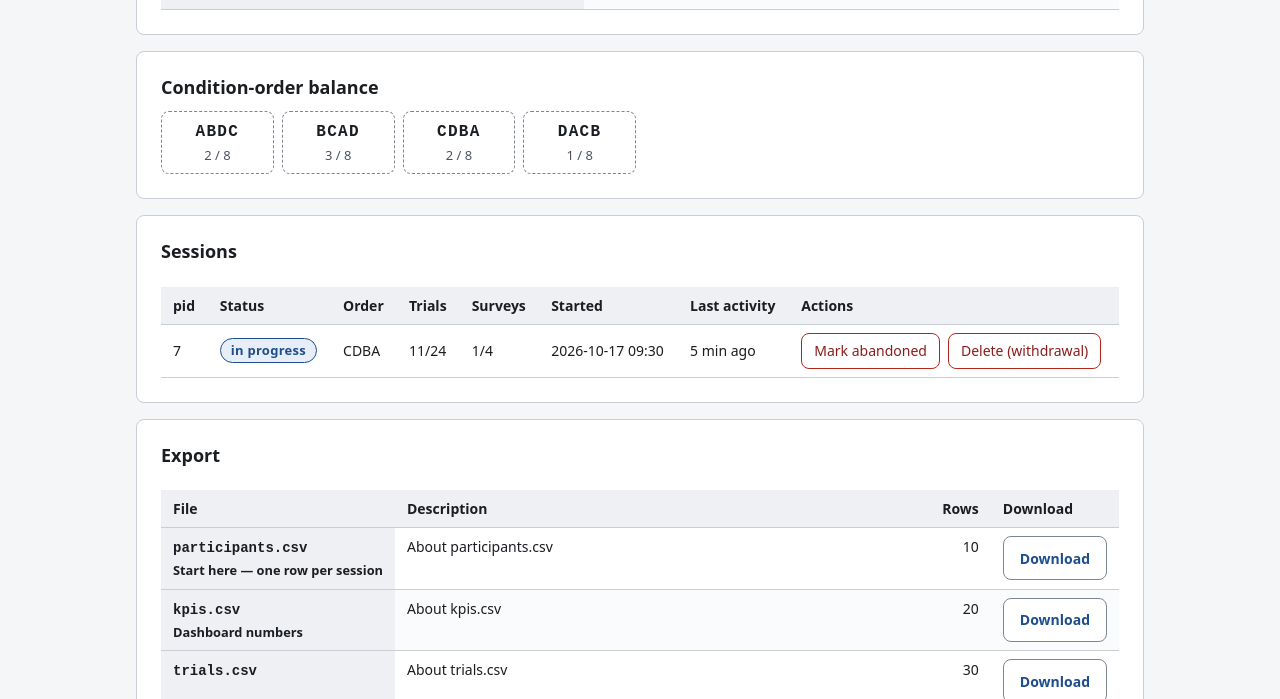
AdminScreen › requires typing the pid before deleting
(page scrolled)
Click the button "Delete (withdrawal)" at (1025, 351), box top-left (948, 333), bottom-right (1101, 369)
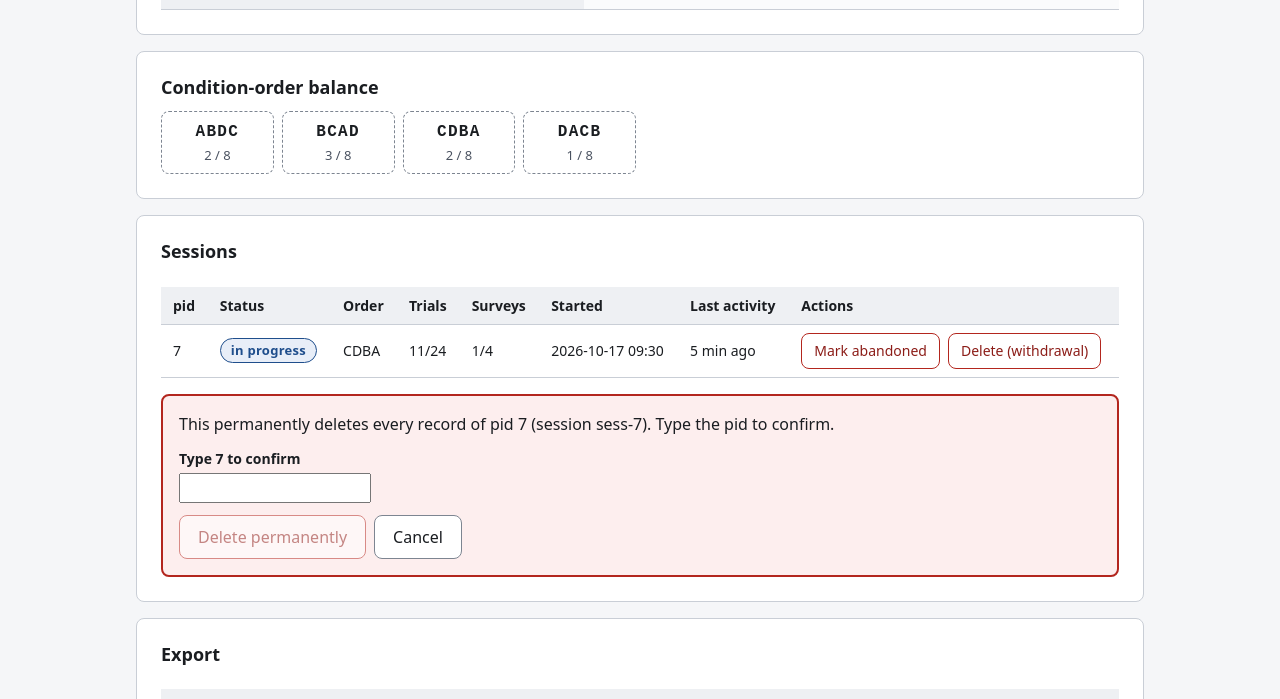
Now the button "Delete permanently" is disabled, box top-left (179, 515), bottom-right (366, 559)
Type "8" into the field labelled "Type 7 to confirm" at (275, 488), box top-left (179, 473), bottom-right (371, 503)
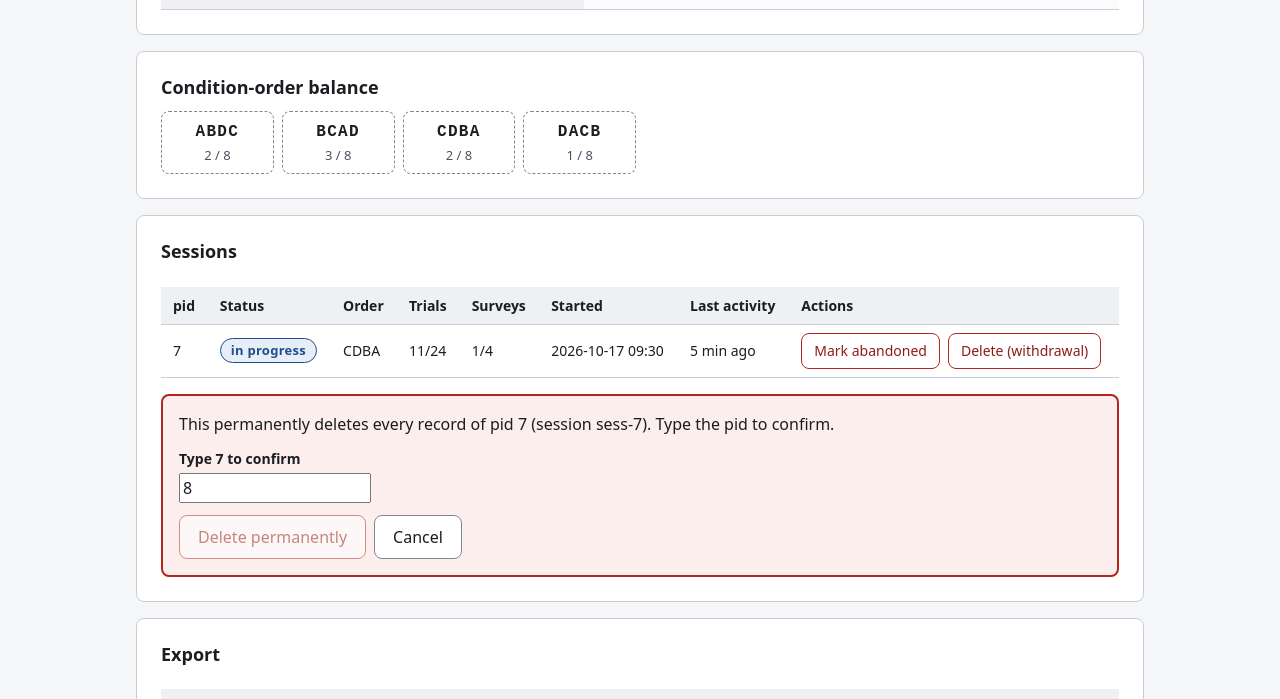
Now the button "Delete permanently" is disabled, box top-left (179, 515), bottom-right (366, 559)
Replace the text in the field labelled "Type 7 to confirm" with "7" at (275, 488), box top-left (179, 473), bottom-right (371, 503)
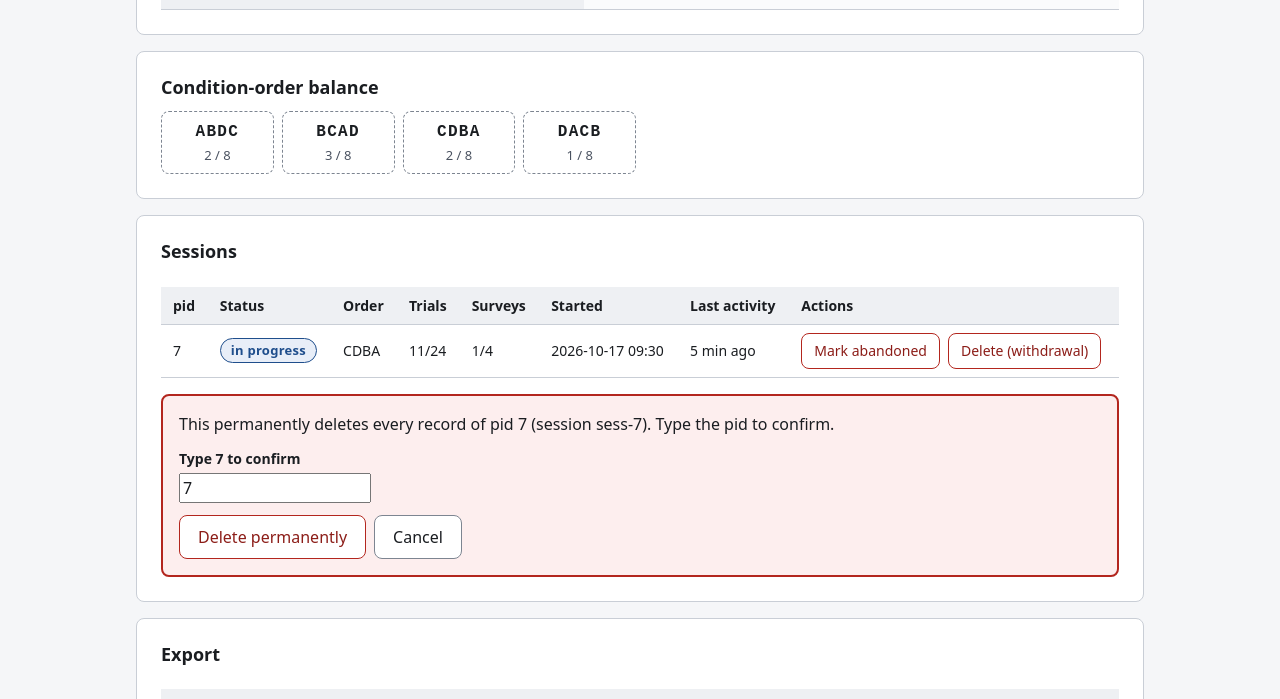
Now the button "Delete permanently" is enabled
Click the button "Delete permanently" at (273, 537), box top-left (179, 515), bottom-right (366, 559)
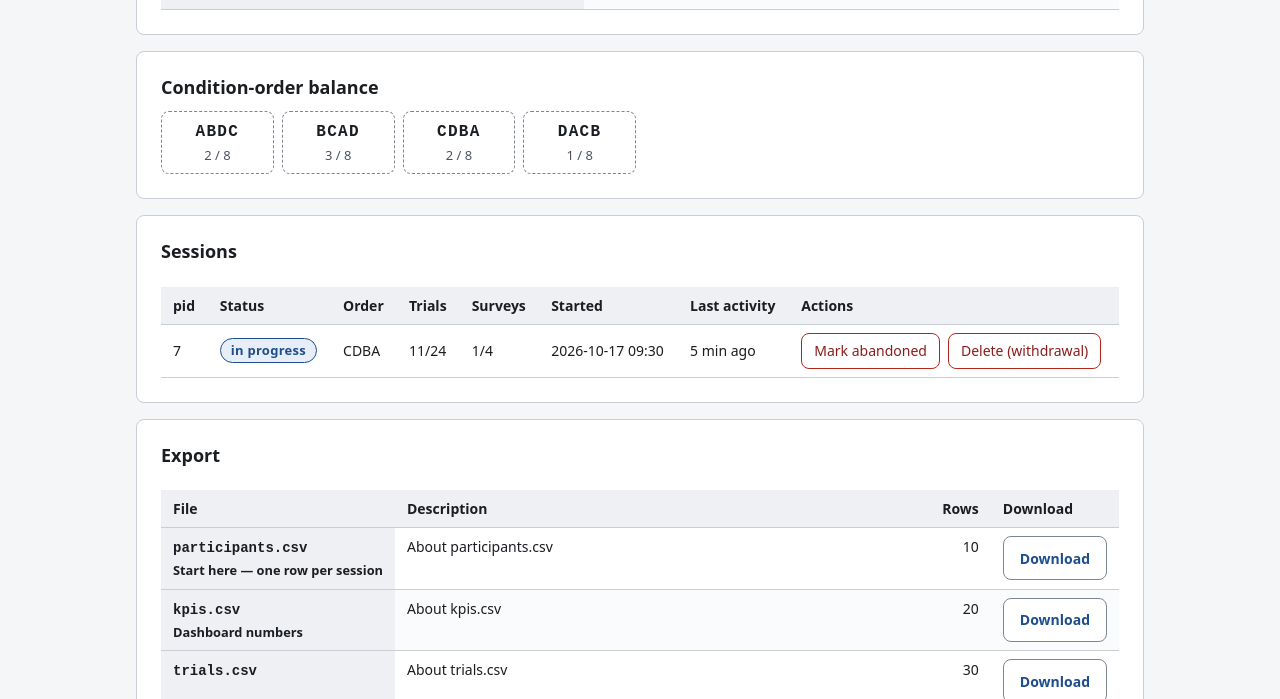
Now the dialog is gone
